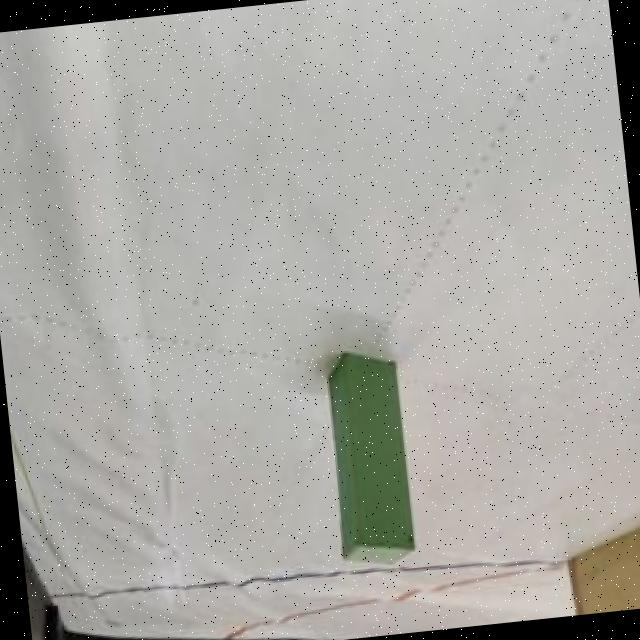greenbox: (319, 345, 422, 571)
